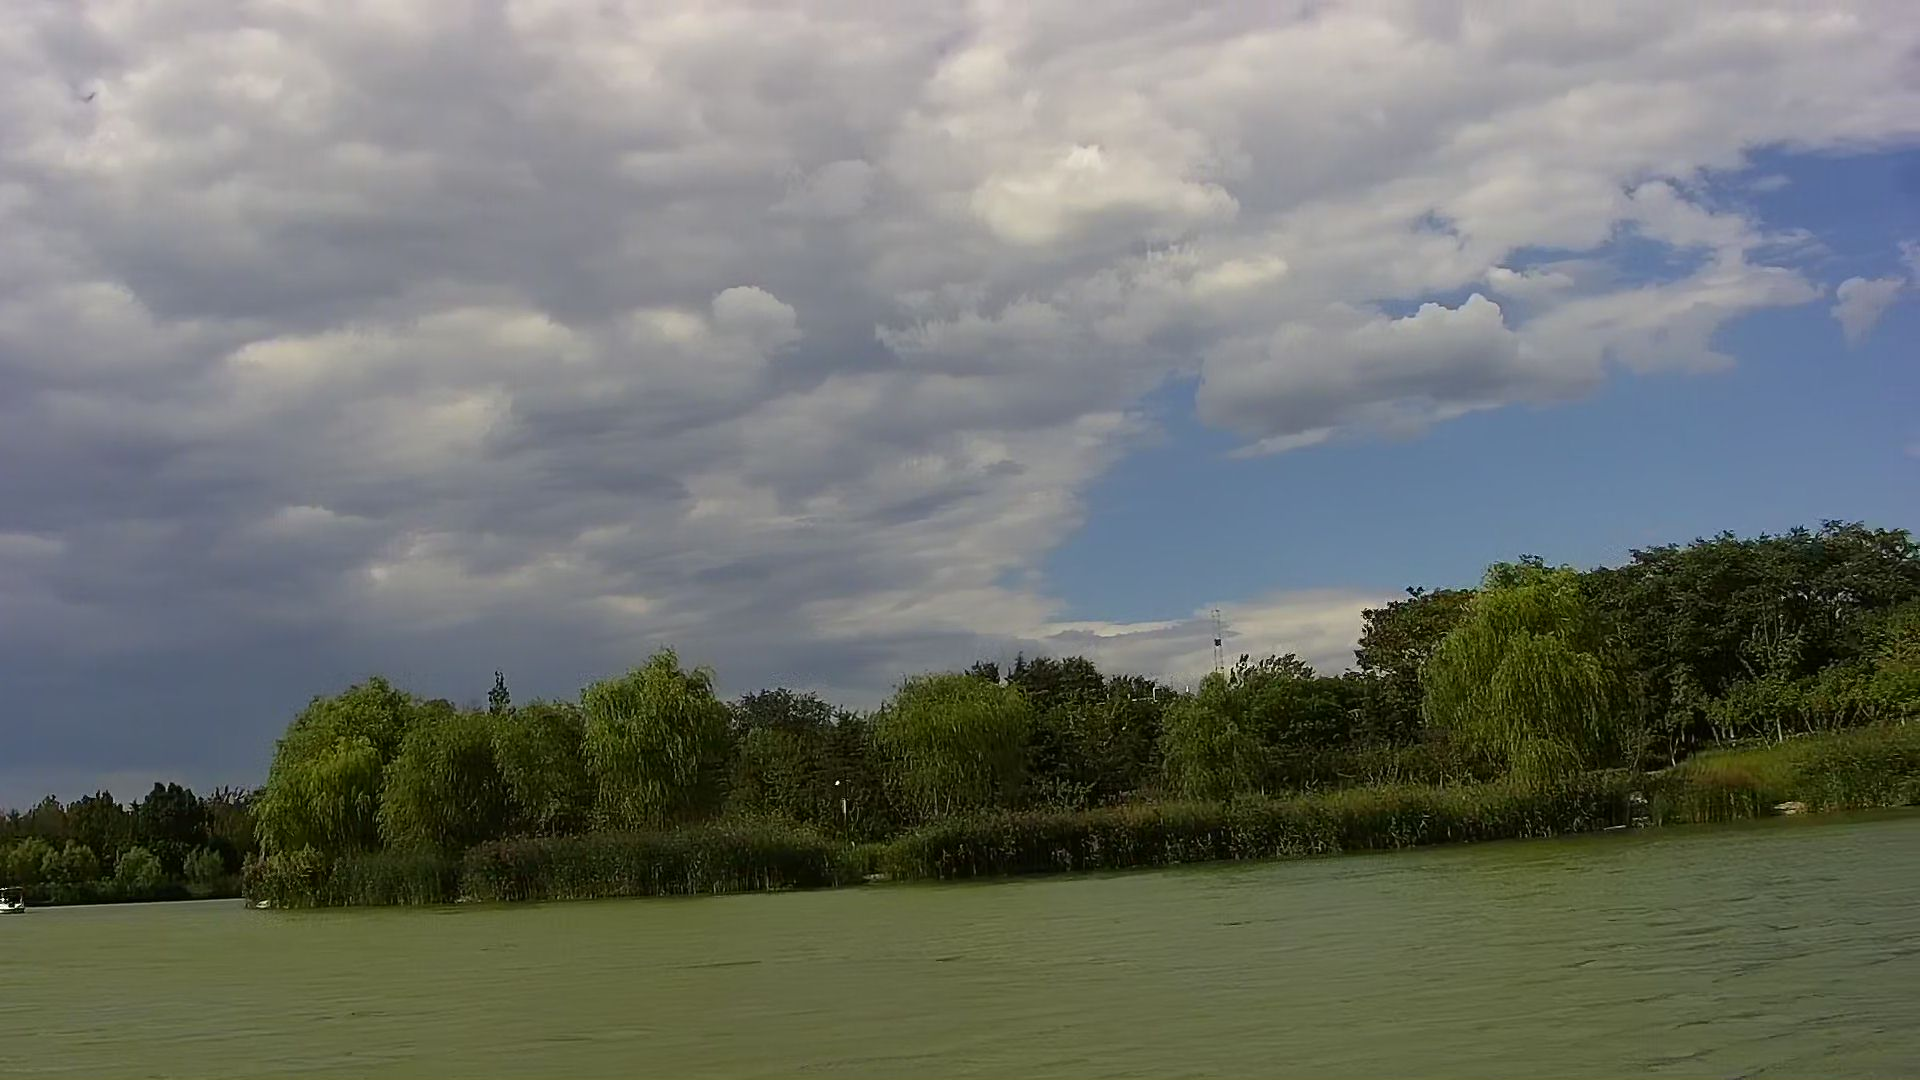boat: (1, 884, 29, 916)
rock: (1776, 800, 1807, 818)
